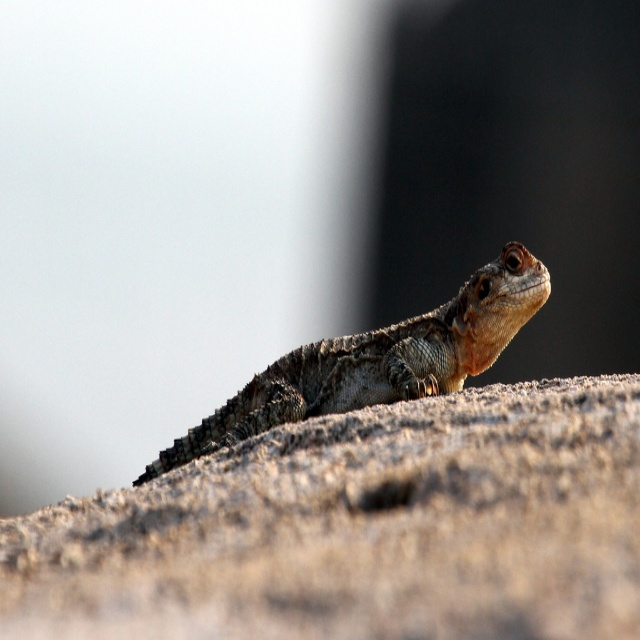Lizard: (134, 232, 550, 482)
